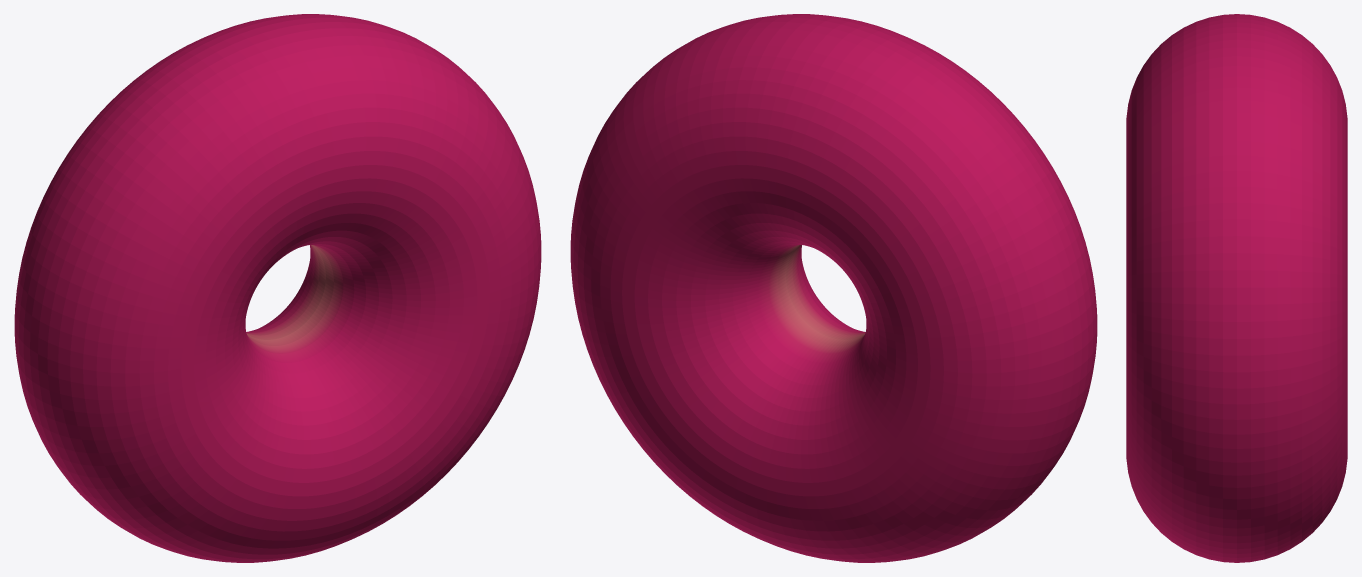
3 renders of one model, left to right at view 1: azimuth 30°, elevation 25°; view 2: azimuth 150°, elevation 25°; view 3: azimuth 270°, elevation 25°, orthographic. The views are drawn at different scales.
Parts seen in each view (by area): view 1: world; view 2: world; view 3: world.
Boxes of the visible parts, x1,y1,x2,y2 form: world: [14, 14, 541, 562]; world: [570, 14, 1097, 562]; world: [1126, 14, 1347, 562].
Size of the model in its own units: 23.47 by 23.47 by 9.45.
